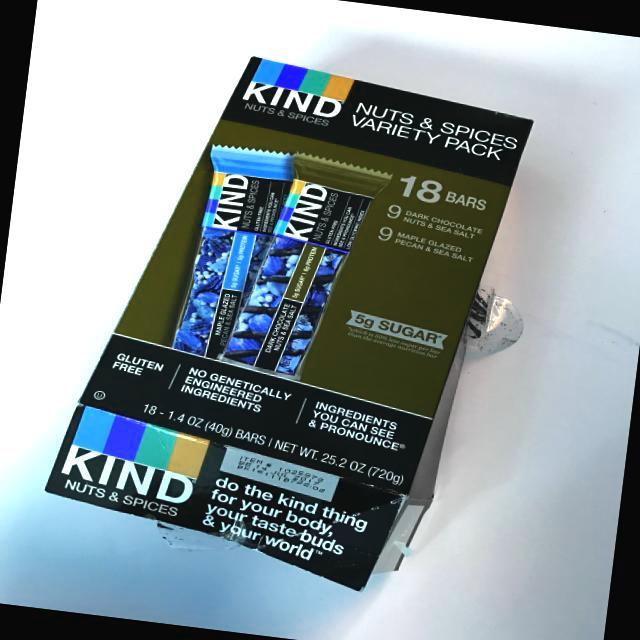paper: (32, 30, 541, 607)
